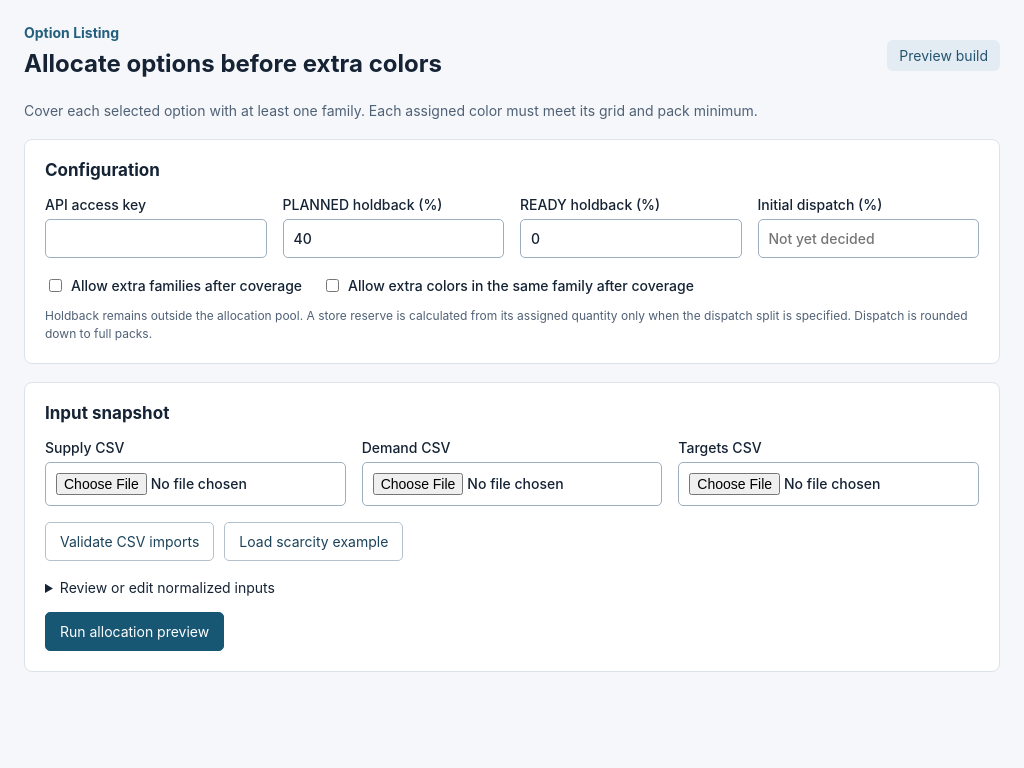
Scenario: submits policies and shows coverage and an unspecified reserve split
The image size is (1024, 768).
Type "test-only" into the password field labelled "API access key" at (156, 238), box left=45, top=219, right=266, bottom=258
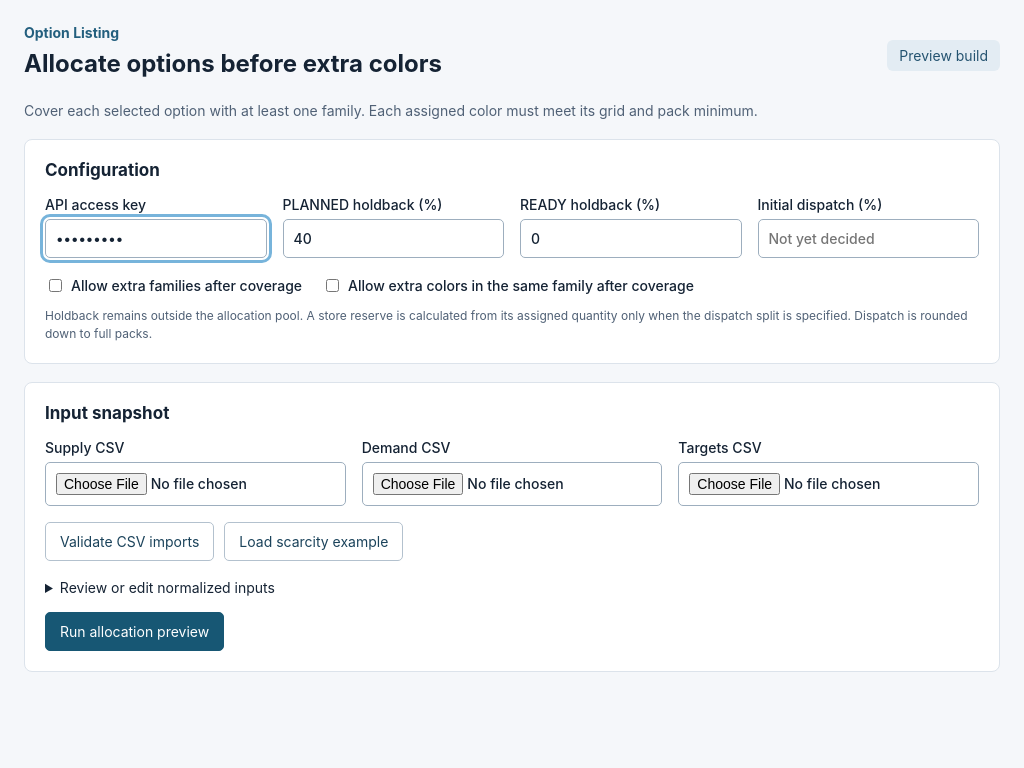
Click the button "Run allocation preview" at (135, 632), box left=45, top=612, right=224, bottom=651
(page scrolled)
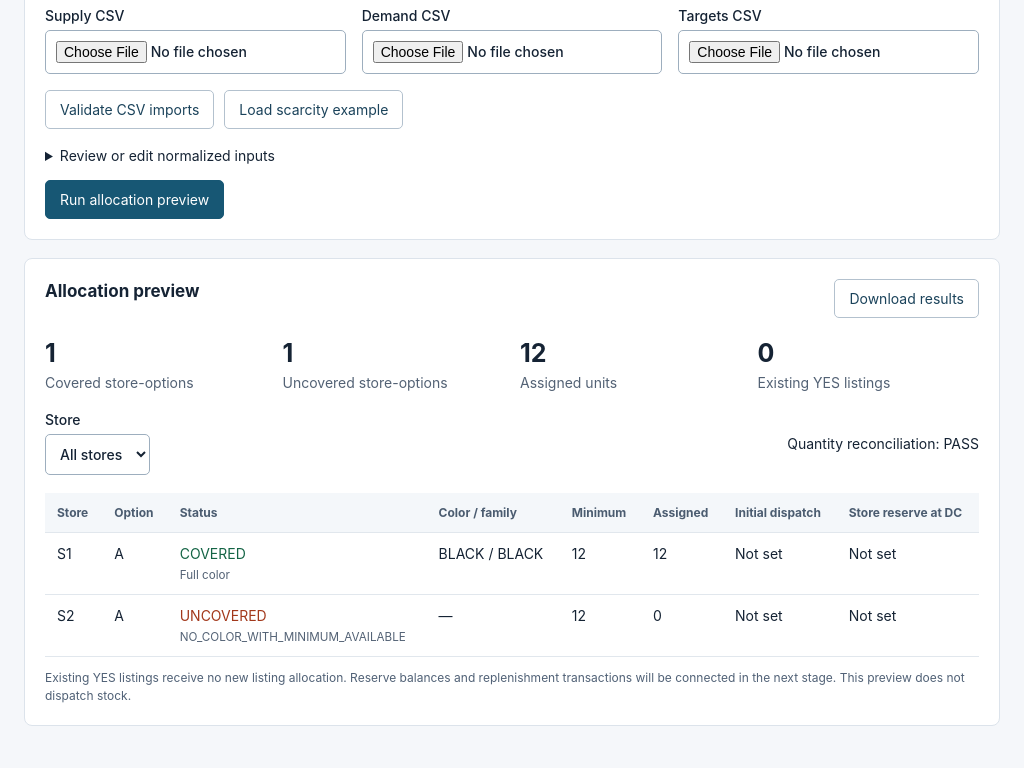
Expected: the text "BLACK / BLACK" is shown, left=439, top=545, right=548, bottom=562
Expected: the text "Not set" is shown 4 times, left=723, top=532, right=837, bottom=594; left=837, top=532, right=979, bottom=594; left=723, top=594, right=837, bottom=656; left=837, top=594, right=979, bottom=656
Select "S1" in the dropdown labelled "Store" at (98, 454), box left=45, top=434, right=150, bottom=475
(page scrolled)
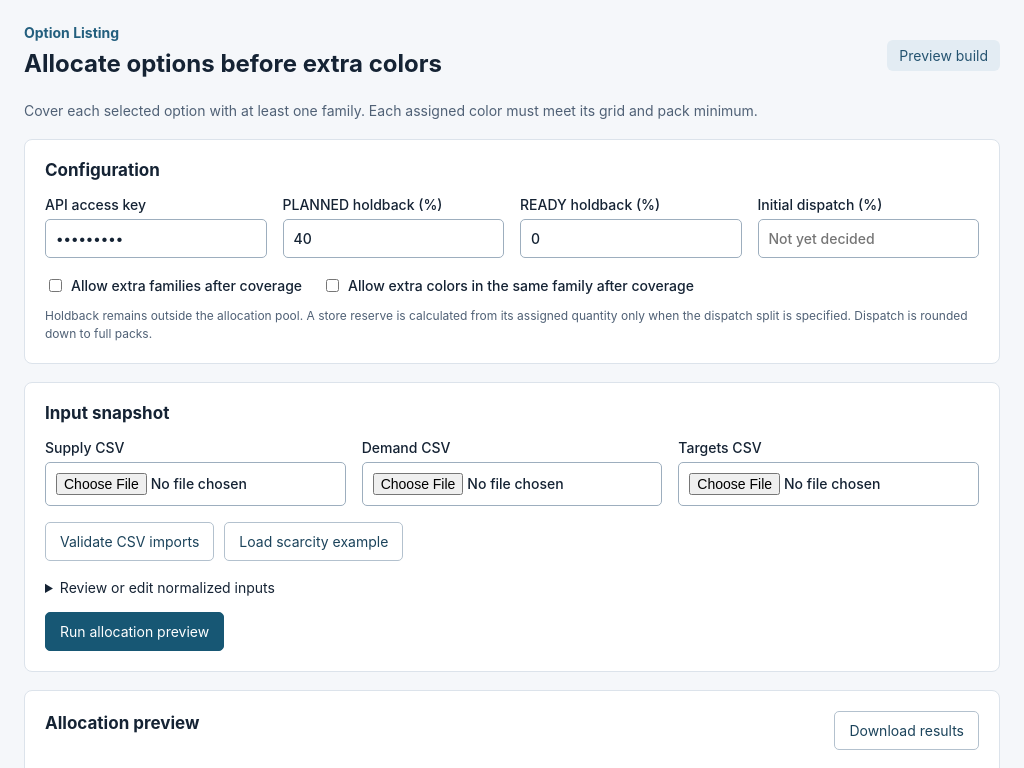
Expected: the text "NO_COLOR_WITH_MINIMUM_AVAILABLE" is gone
Clear the number field labelled "PLANNED holdback (%)" at (393, 238), box left=282, top=219, right=504, bottom=258
(page scrolled)
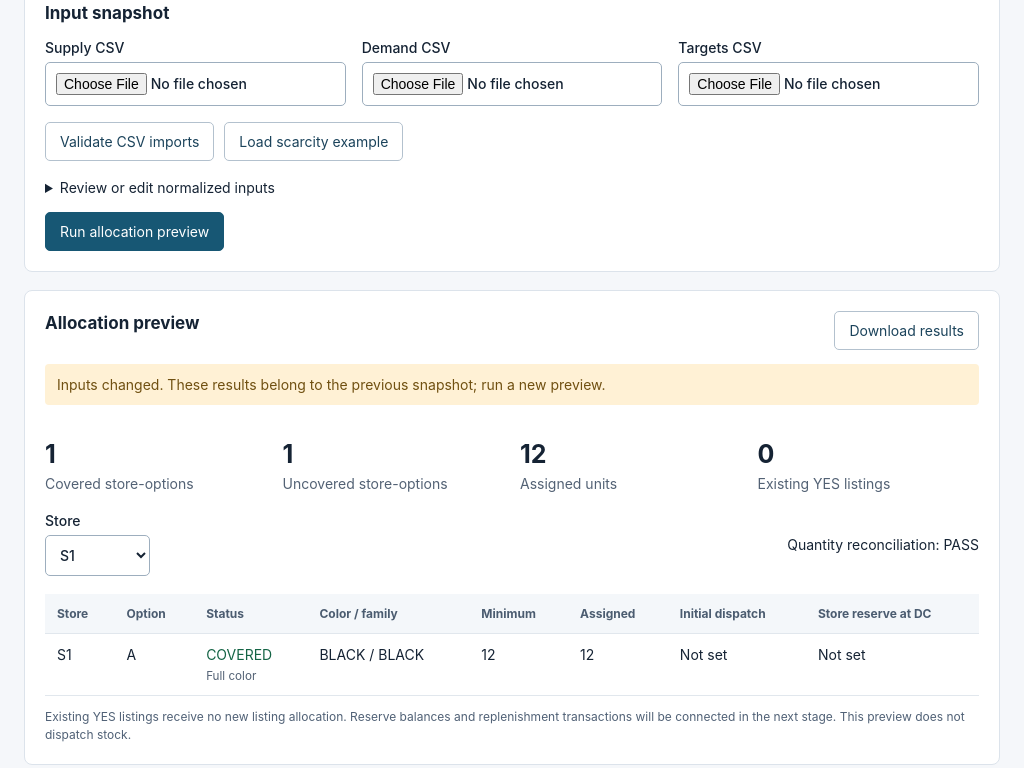
Expected: the message shows "Inputs changed", left=57, top=376, right=606, bottom=393
